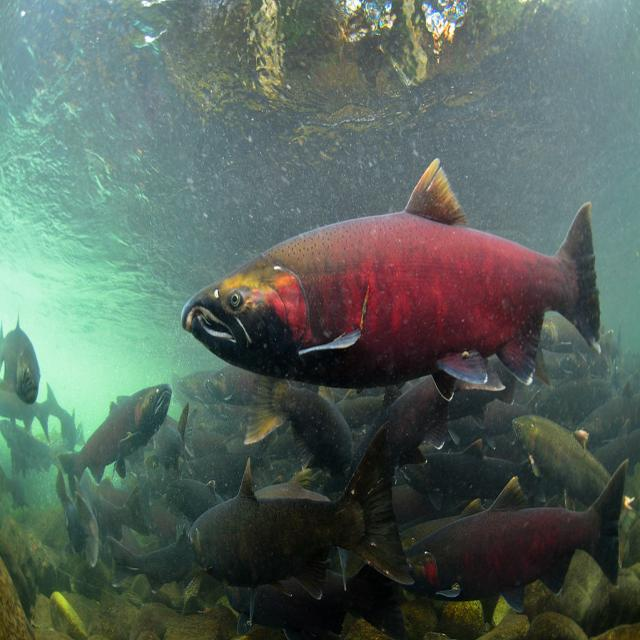salmon: (177, 154, 606, 431)
